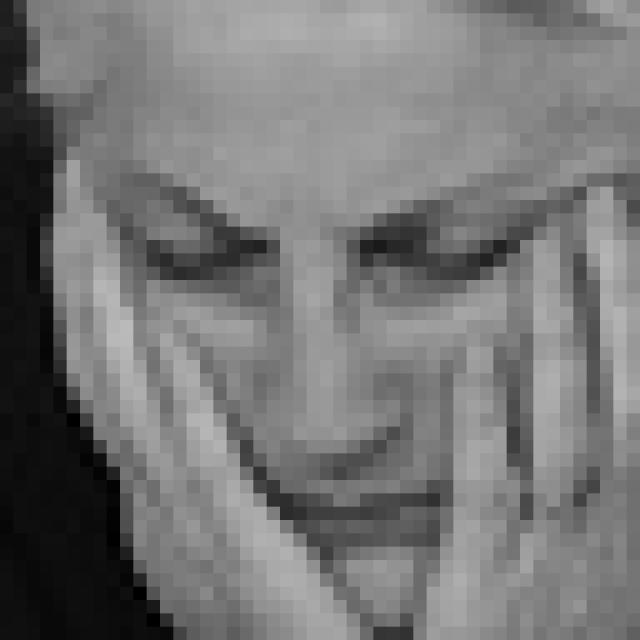sad: (107, 156, 574, 566)
